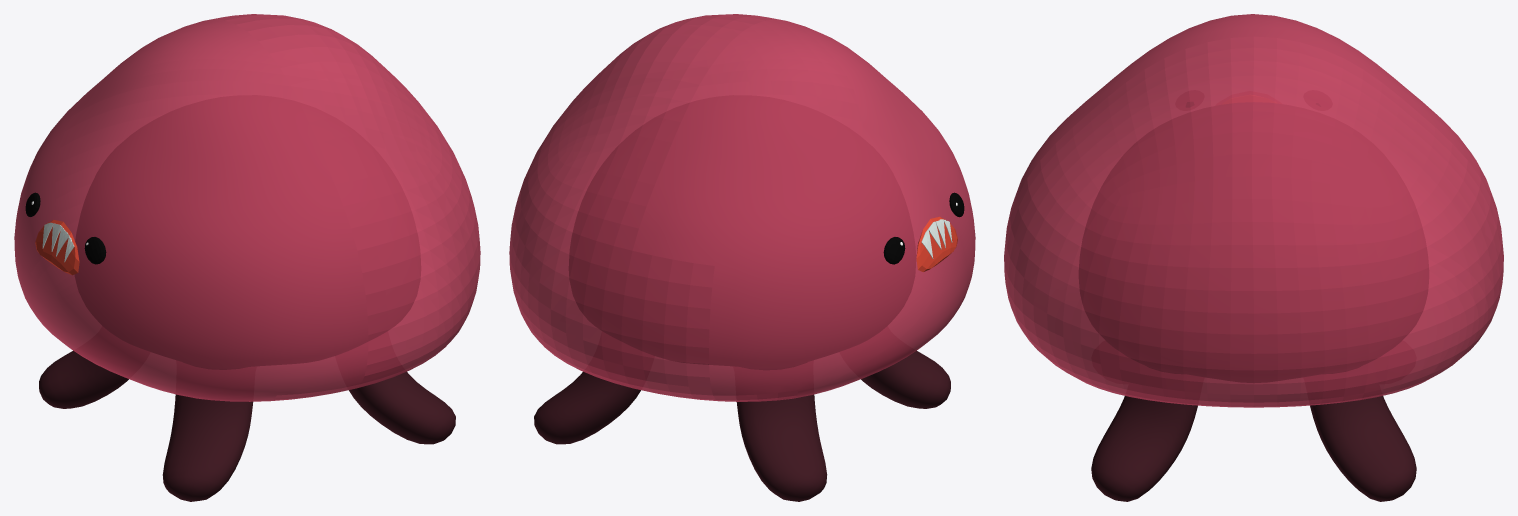
Rendered from Warm_Angry.fbx.
3 renders of one model, left to right at view 1: azimuth 30°, elevation 25°; view 2: azimuth 150°, elevation 25°; view 3: azimuth 270°, elevation 25°, orthographic. The views are drawn at different scales.
Visible parts, largest first — view 1: Cube.003, Cube.004, Plane.007, Plane.008; view 2: Cube.003, Cube.004, Plane.007, Plane.008; view 3: Cube.003, Cube.004.
Boxes of the visible parts, x1=… form: Cube.003: x1=14, y1=14, x2=480, y2=401; Cube.004: x1=39, y1=95, x2=455, y2=501; Plane.007: x1=35, y1=220, x2=79, y2=275; Plane.008: x1=25, y1=192, x2=106, y2=264; Cube.003: x1=509, y1=14, x2=975, y2=401; Cube.004: x1=534, y1=95, x2=950, y2=501; Plane.007: x1=916, y1=216, x2=957, y2=271; Plane.008: x1=883, y1=192, x2=964, y2=264; Cube.003: x1=1004, y1=14, x2=1503, y2=407; Cube.004: x1=1079, y1=102, x2=1428, y2=501.
Size of the model in its own units: 141 by 133 by 150.
